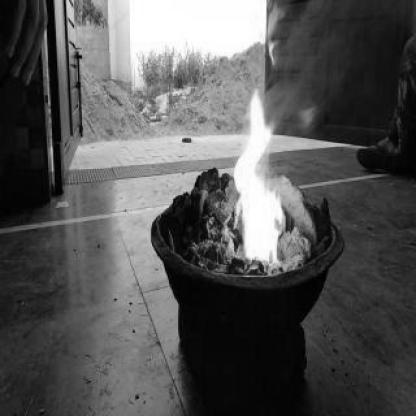fire: (230, 81, 288, 263), (294, 102, 320, 138)
